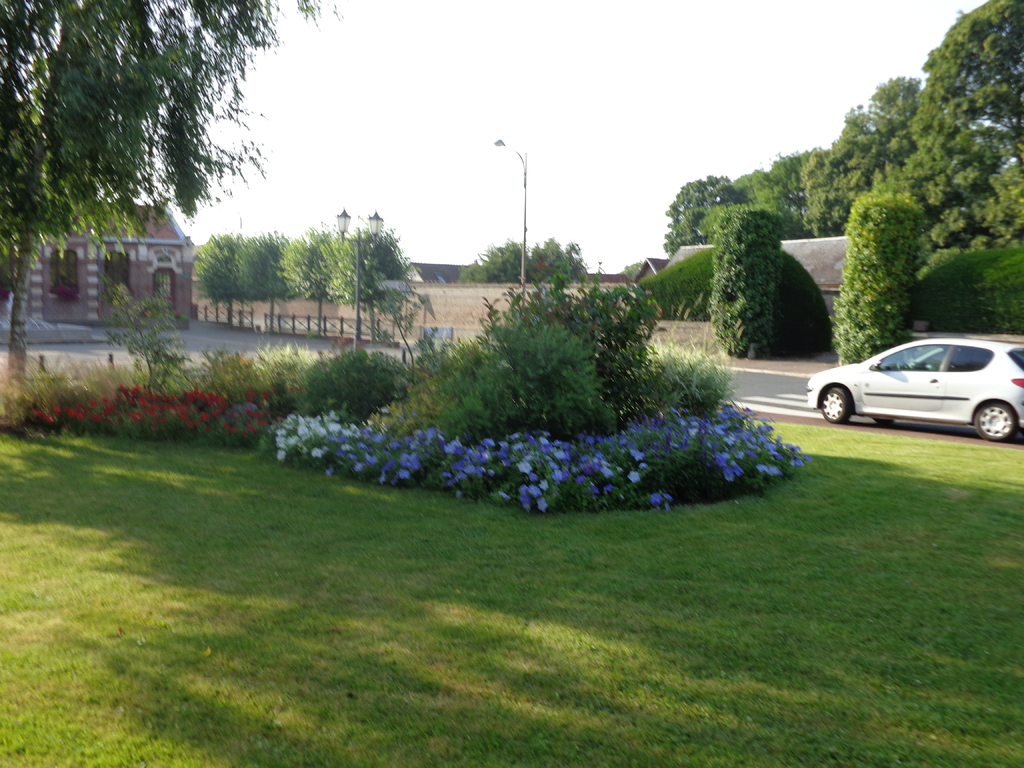Car: (804, 340, 1023, 442)
